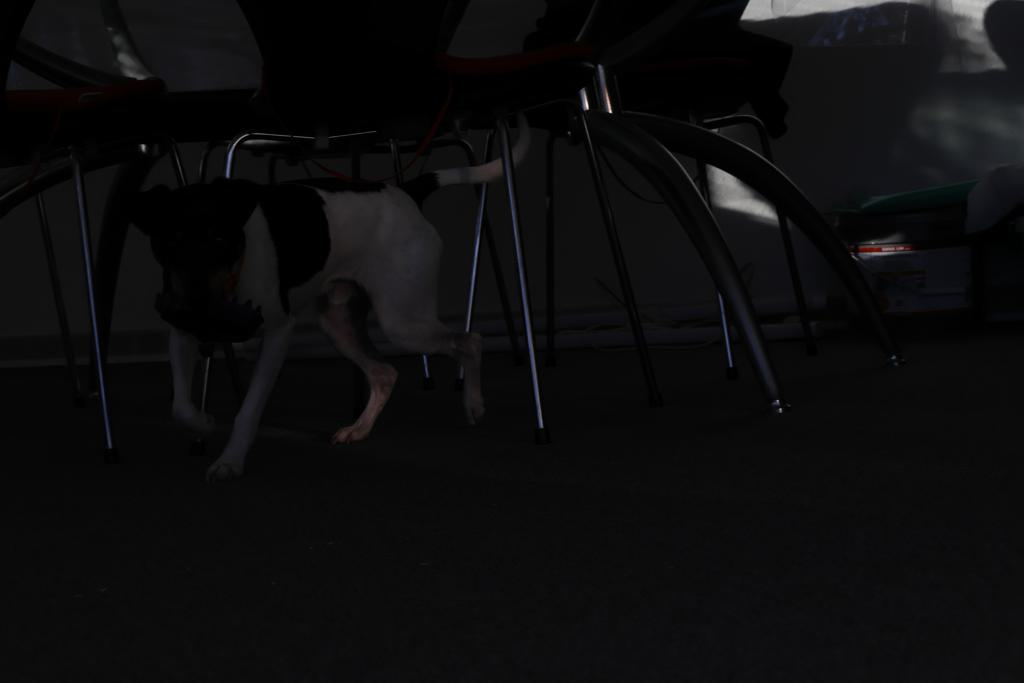Dog: (99, 108, 552, 487)
